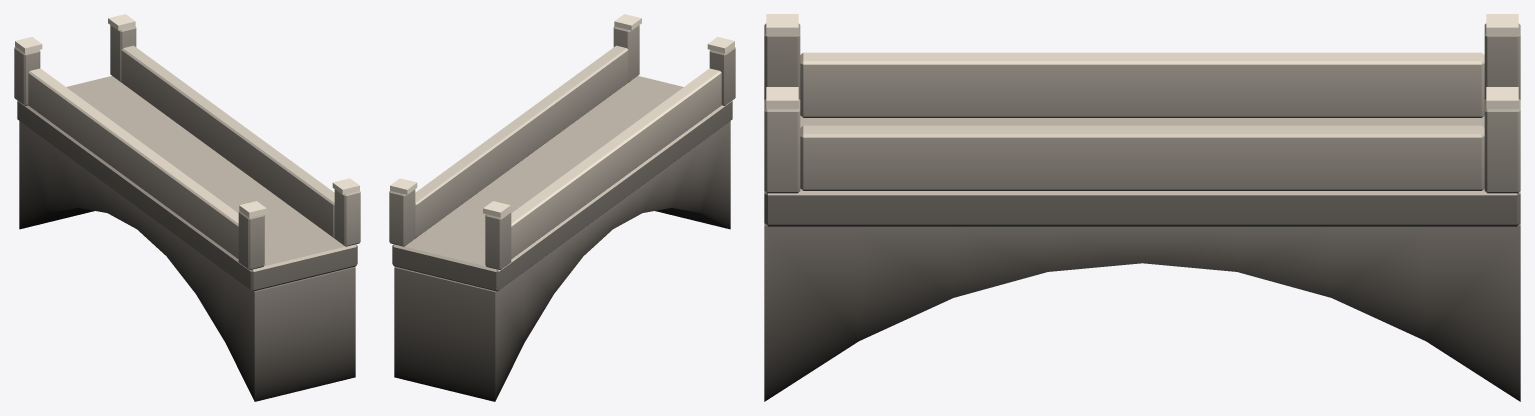
File: SM_VKI_Prop_Bridge_Dwarf.fbx
The picture shows the model from 3 angles, left to right: view 1: azimuth 30°, elevation 25°; view 2: azimuth 150°, elevation 25°; view 3: azimuth 270°, elevation 25°; orthographic projection. The views are drawn at different scales.
Parts seen in each view (by area): view 1: SM_VKI_Prop_Bridge_Dwarf.001; view 2: SM_VKI_Prop_Bridge_Dwarf.001; view 3: SM_VKI_Prop_Bridge_Dwarf.001.
Part boxes in pixels (x1=…): SM_VKI_Prop_Bridge_Dwarf.001: x1=14, y1=14, x2=360, y2=401; SM_VKI_Prop_Bridge_Dwarf.001: x1=389, y1=14, x2=735, y2=401; SM_VKI_Prop_Bridge_Dwarf.001: x1=764, y1=14, x2=1520, y2=401.
Bounding box in the file's own units: 1.16 × 1.87 × 4.2.
